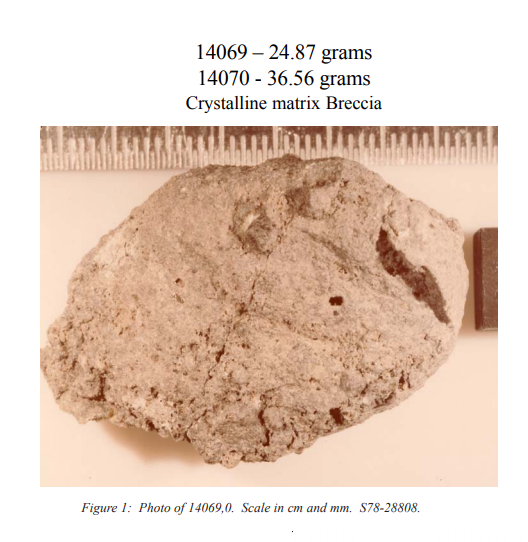Breccia: (44, 151, 475, 467)
